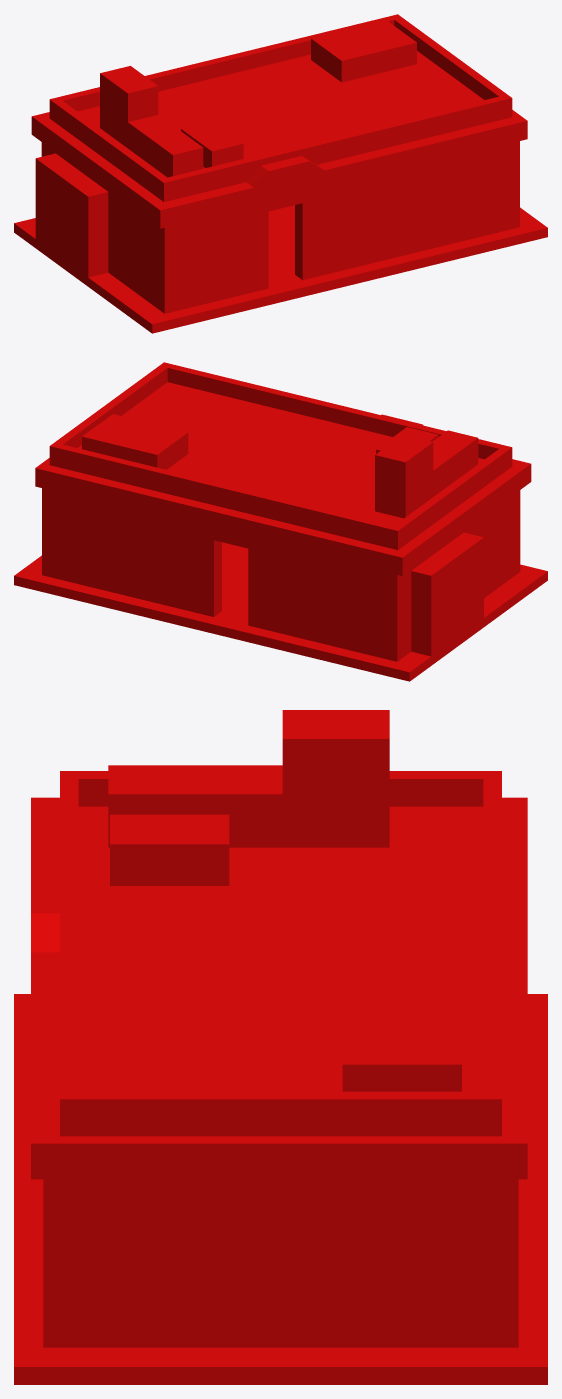
Rendered from SM_Bld_Shop_Small_03_Collision.fbx.
The picture shows the model from 3 angles, top to bottom: view 1: azimuth 30°, elevation 25°; view 2: azimuth 150°, elevation 25°; view 3: azimuth 270°, elevation 25°; orthographic projection. The views are drawn at different scales.
Visible parts, largest first — view 1: SM_Bld_Shop_Small_03_Collision; view 2: SM_Bld_Shop_Small_03_Collision; view 3: SM_Bld_Shop_Small_03_Collision.
Boxes of the visible parts, box(x1,y1,x2,y2) form: SM_Bld_Shop_Small_03_Collision: box(14, 14, 547, 333); SM_Bld_Shop_Small_03_Collision: box(14, 362, 547, 681); SM_Bld_Shop_Small_03_Collision: box(14, 710, 547, 1384).
Size of the model in its own units: 1196 by 515 by 723.
